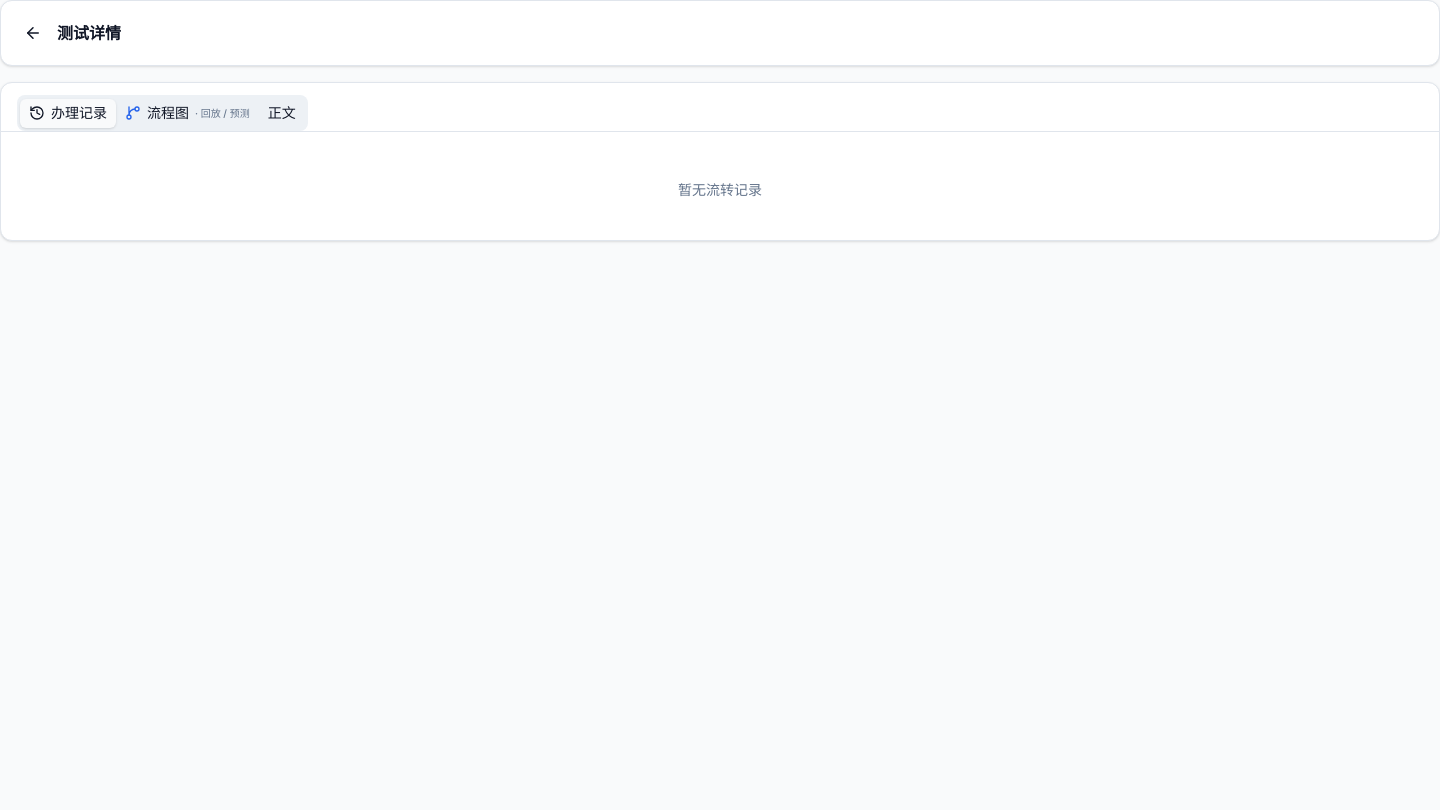
Test: WorkflowDetailShell 骨架 › Tabs 切换：办理记录 → 流程图（空源占位）→ 正文，不崩
Click the tab "流程图 · 回放 / 预测". click: click(187, 113)
box: [116, 98, 259, 128]
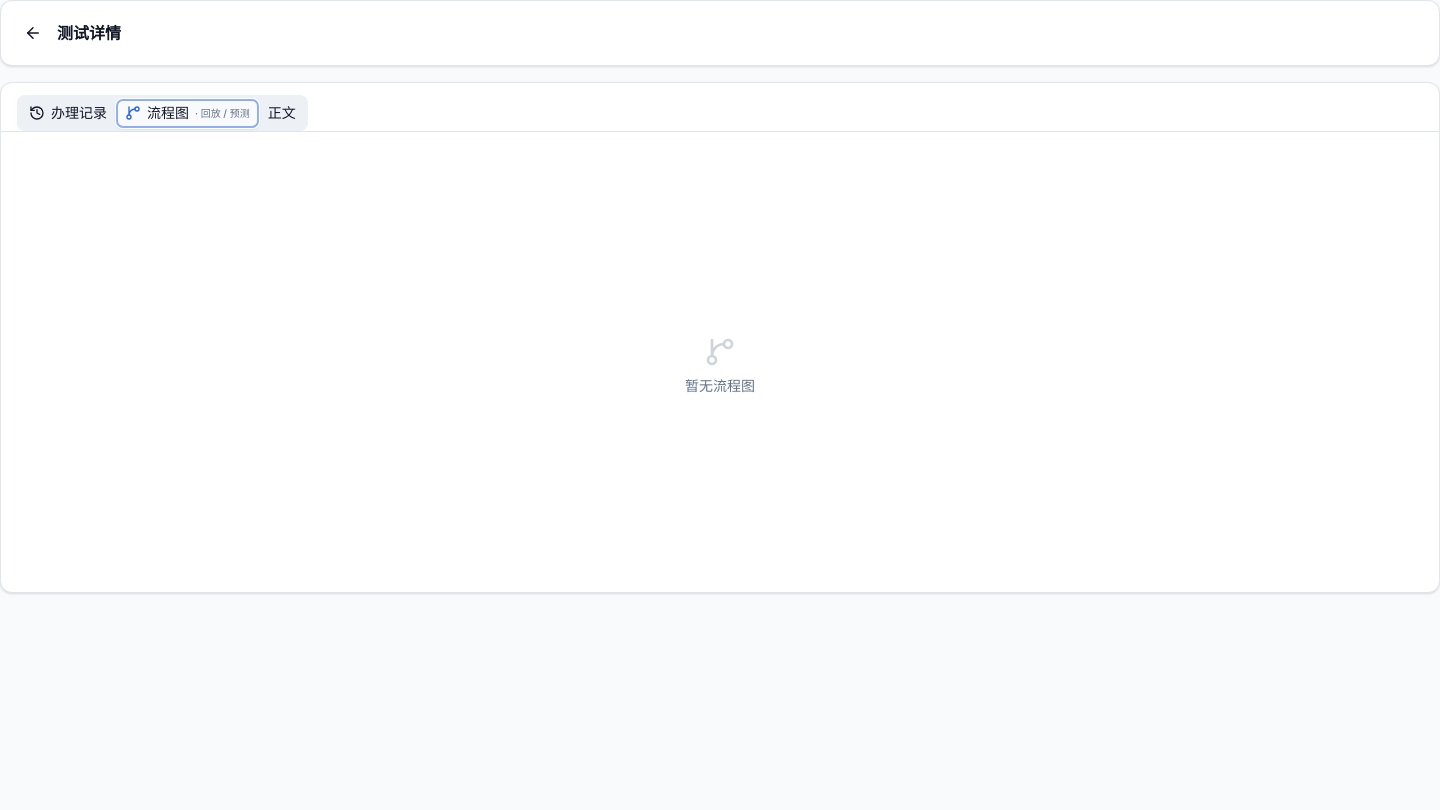
Now the text "暂无流程图" is shown, box [685, 376, 755, 396]
Click the tab "正文". click: click(282, 113)
box: [259, 98, 305, 128]
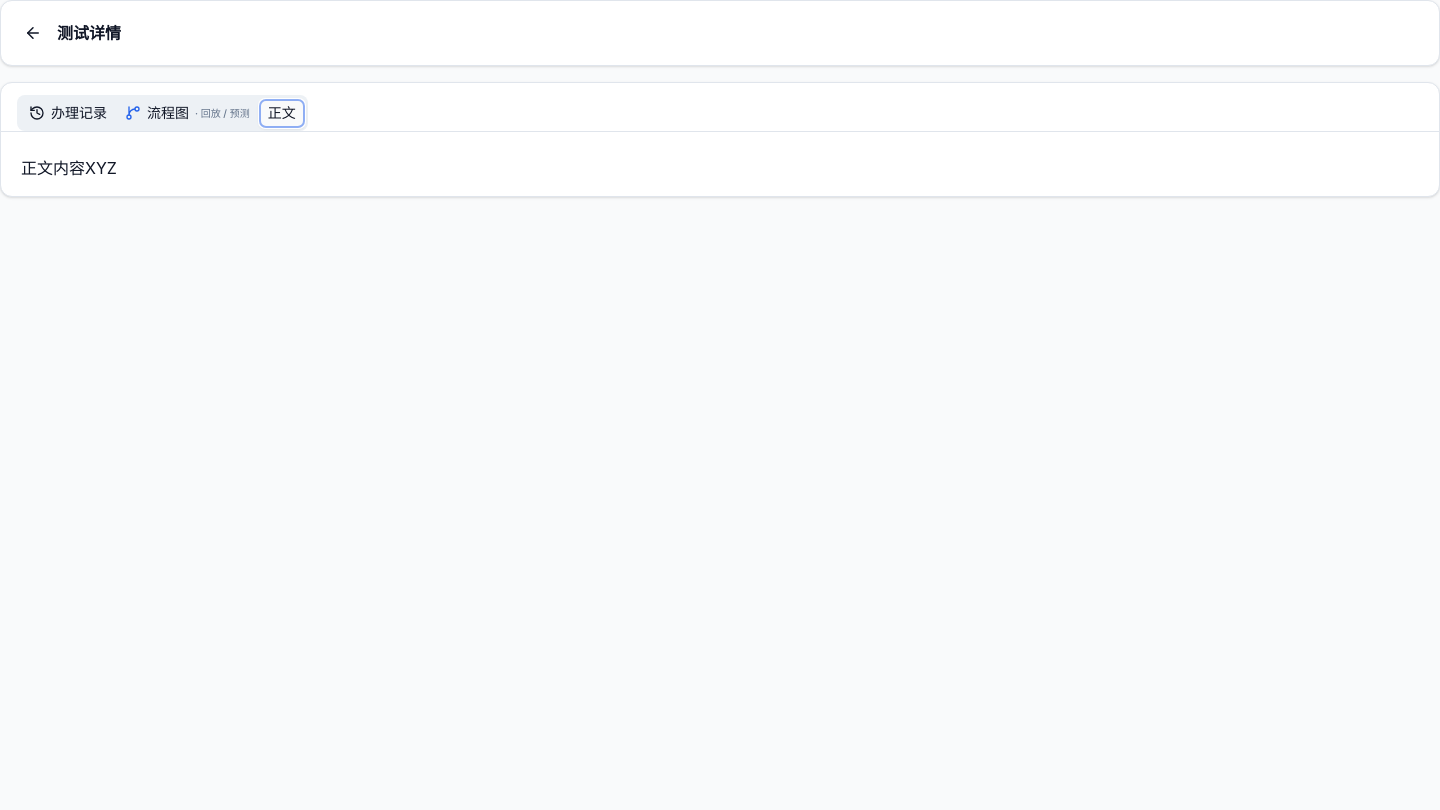
Now the text "正文内容XYZ" is shown, box [21, 158, 117, 178]
